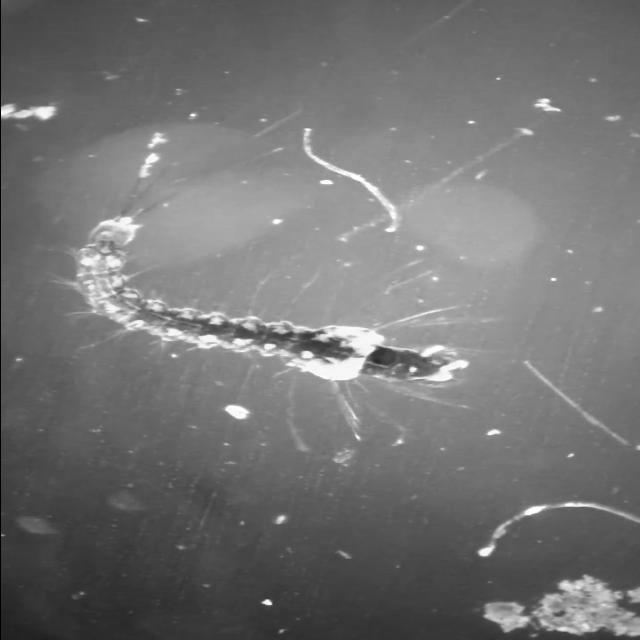larvas: (77, 215, 440, 387)
